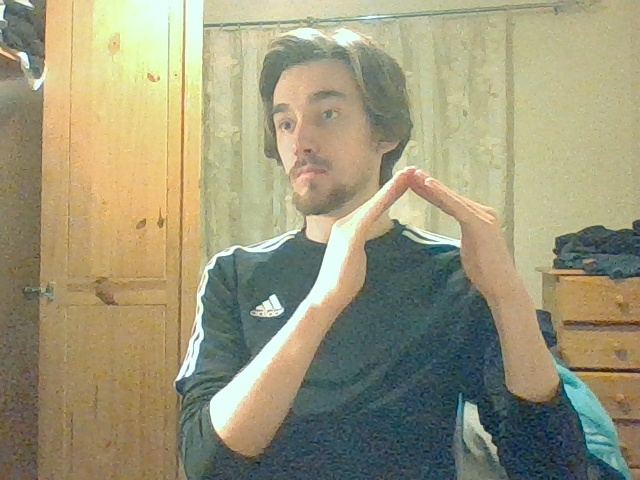home: (327, 166, 504, 259)
